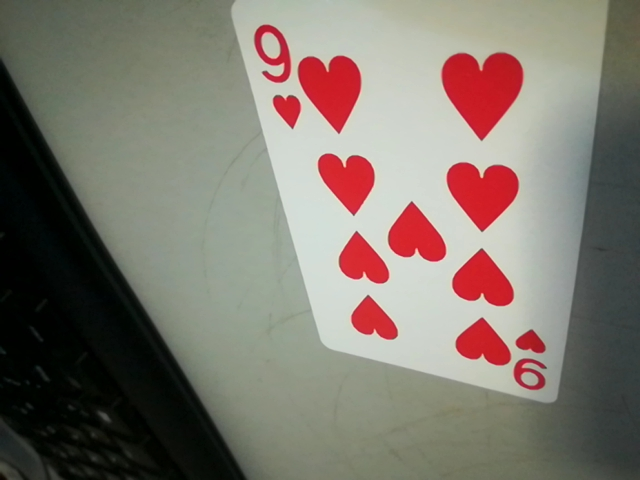hx 9: (505, 328, 560, 396)
